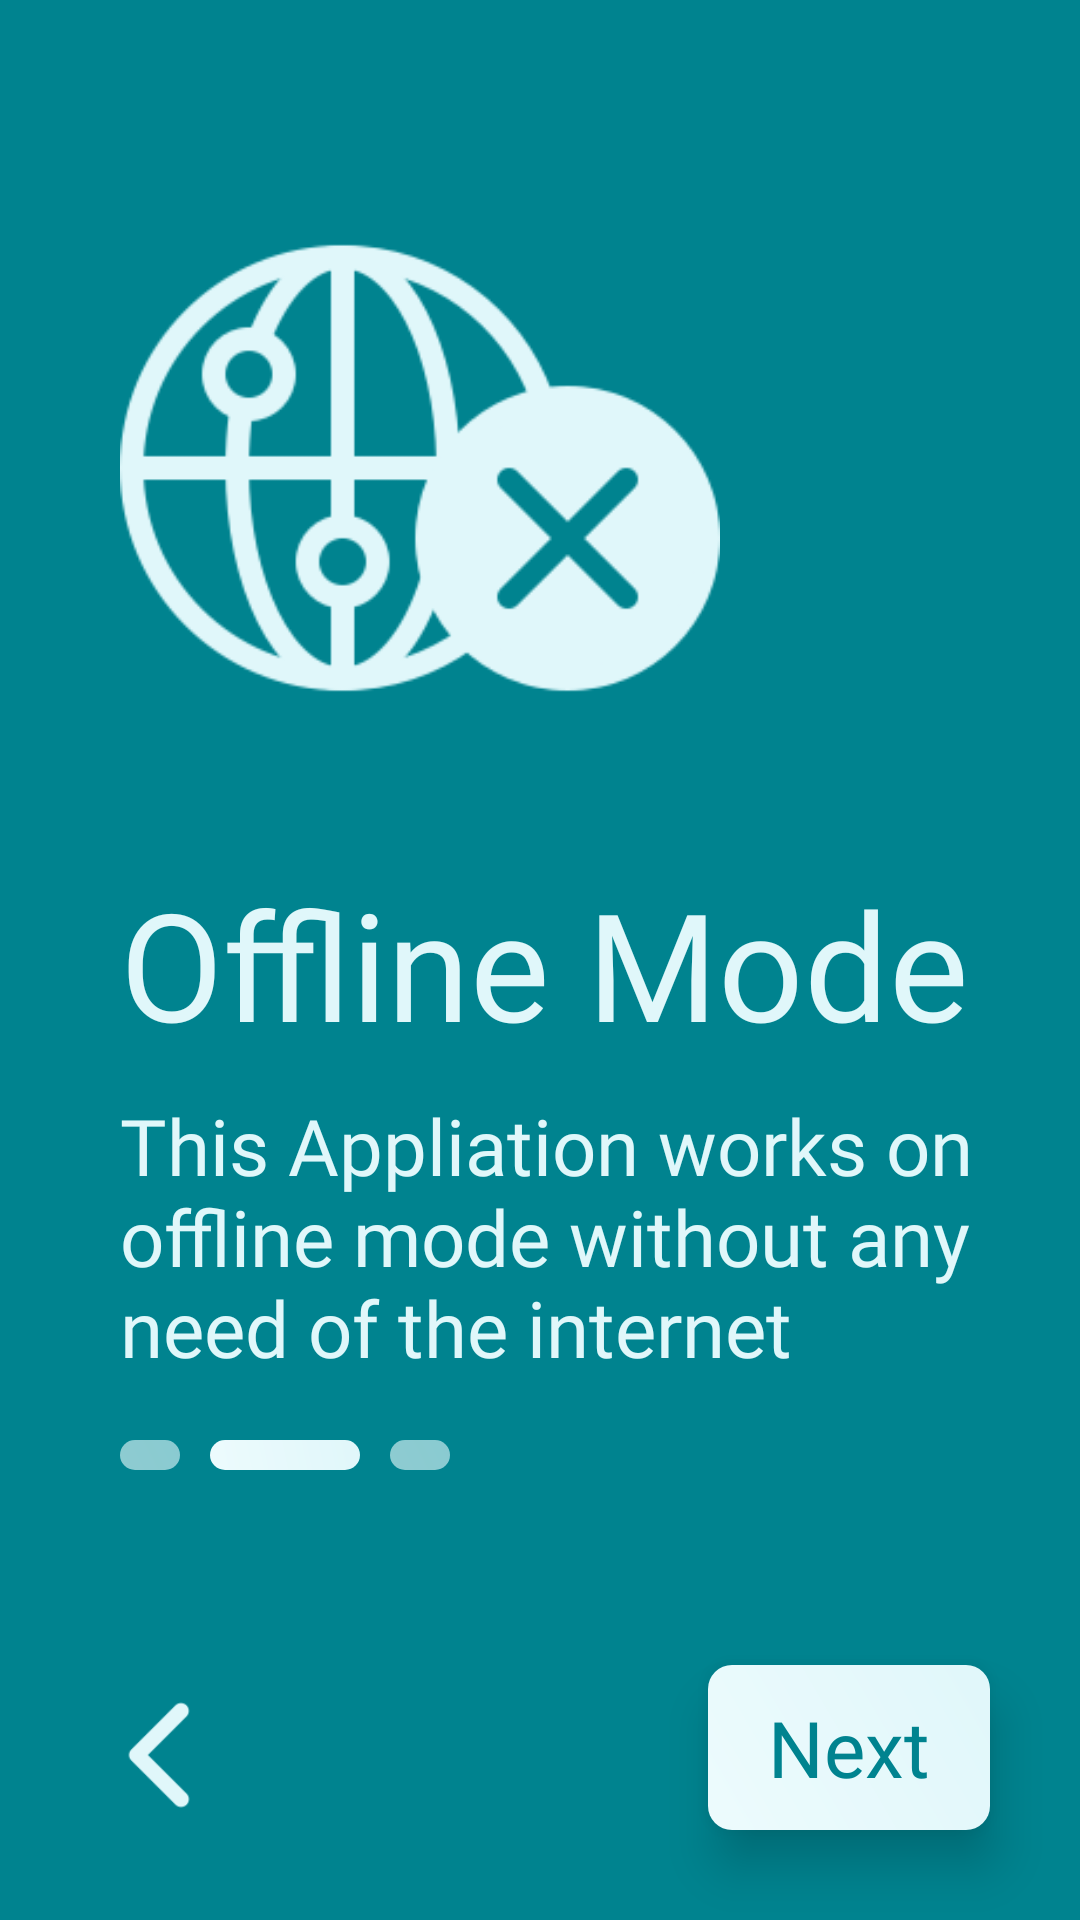

Where icons sit on this 1080px x 1920px app screen, as [left=x1, top=y1, right=x2, bottom=y2]:
left arrow: [left=128, top=1702, right=190, bottom=1808]
step off: [left=120, top=1440, right=180, bottom=1470], [left=390, top=1440, right=450, bottom=1470]
step on: [left=210, top=1440, right=360, bottom=1470]
